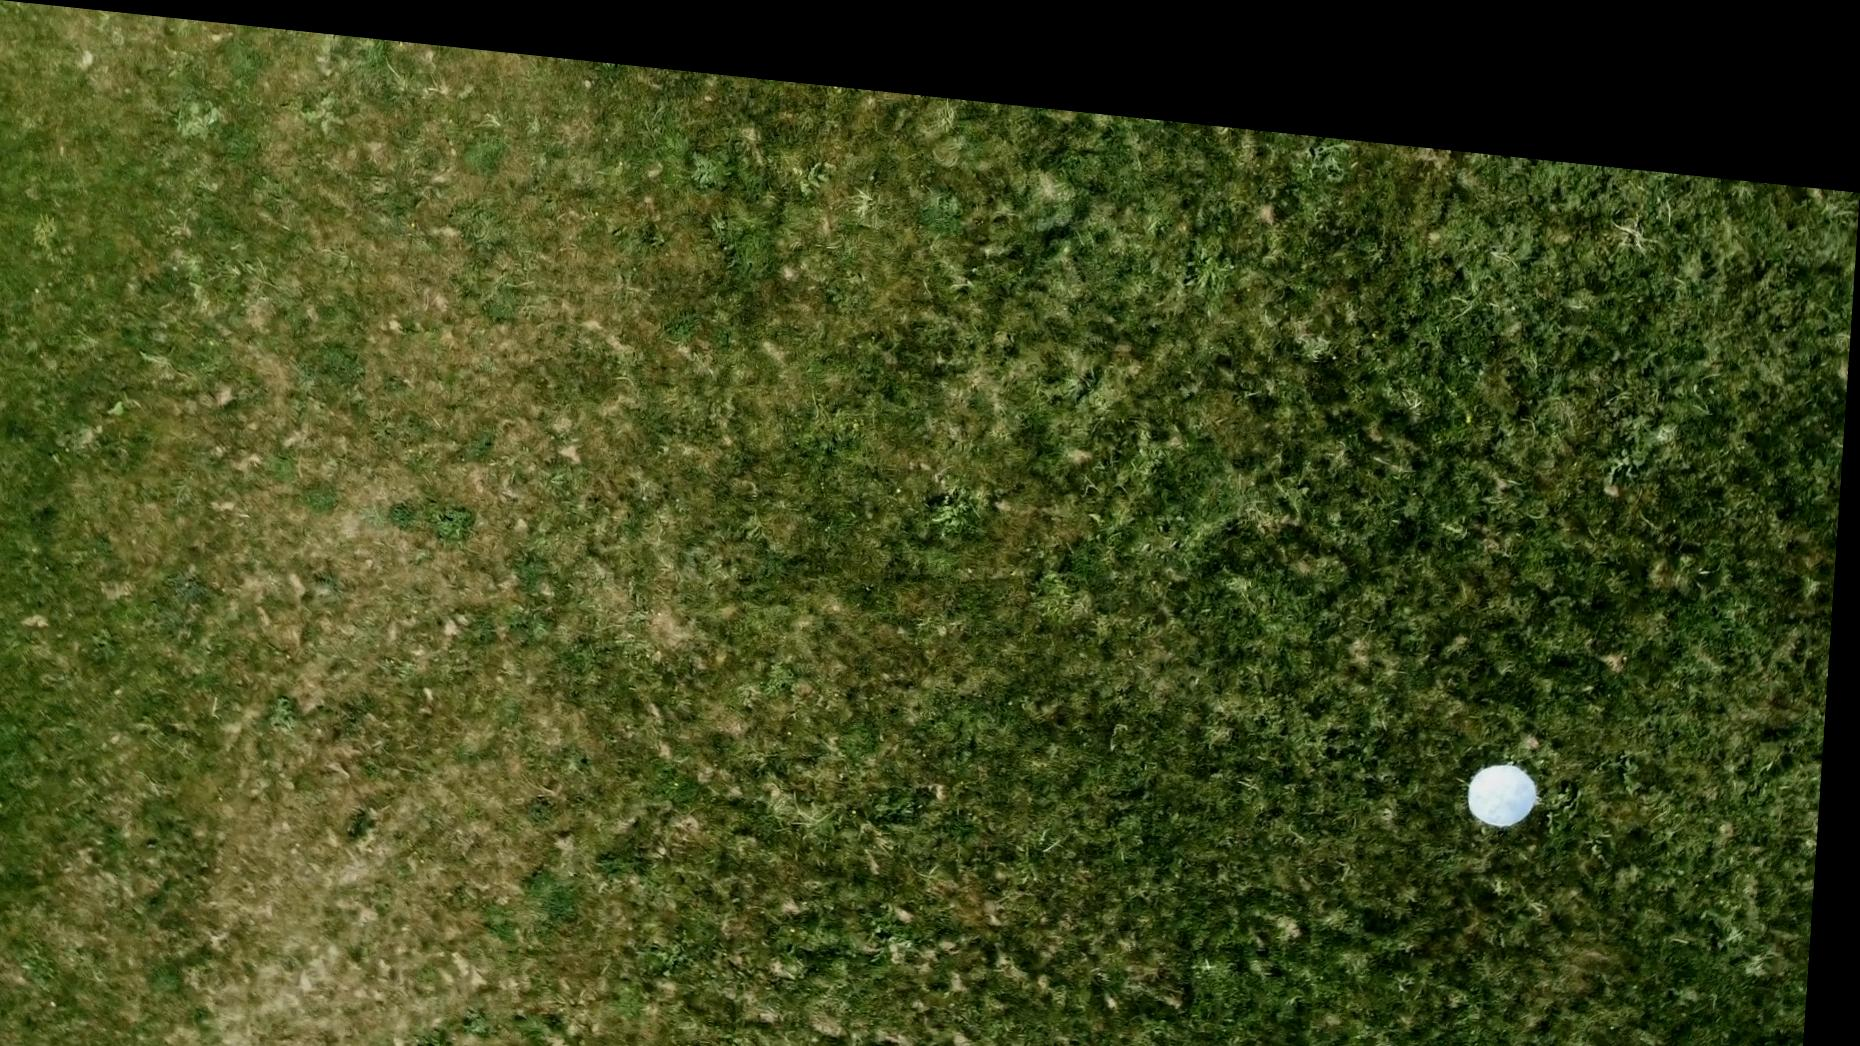Blue: (1473, 725, 1550, 798)
